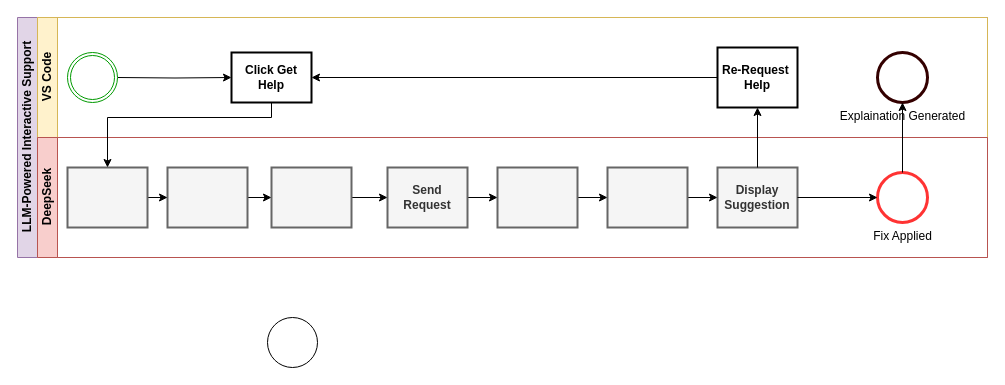
This 1005x385 diagram has some shape labels left out. The centre of each missing label's shape, as x and y in pixels:
"Capture Context" belongs at point (207, 197).
"Format Prompt" belongs at point (311, 197).
"Generate fixes" belongs at point (647, 197).
"Process Request" belongs at point (537, 197).
"Receive Response From Get Help" belongs at point (107, 197).
